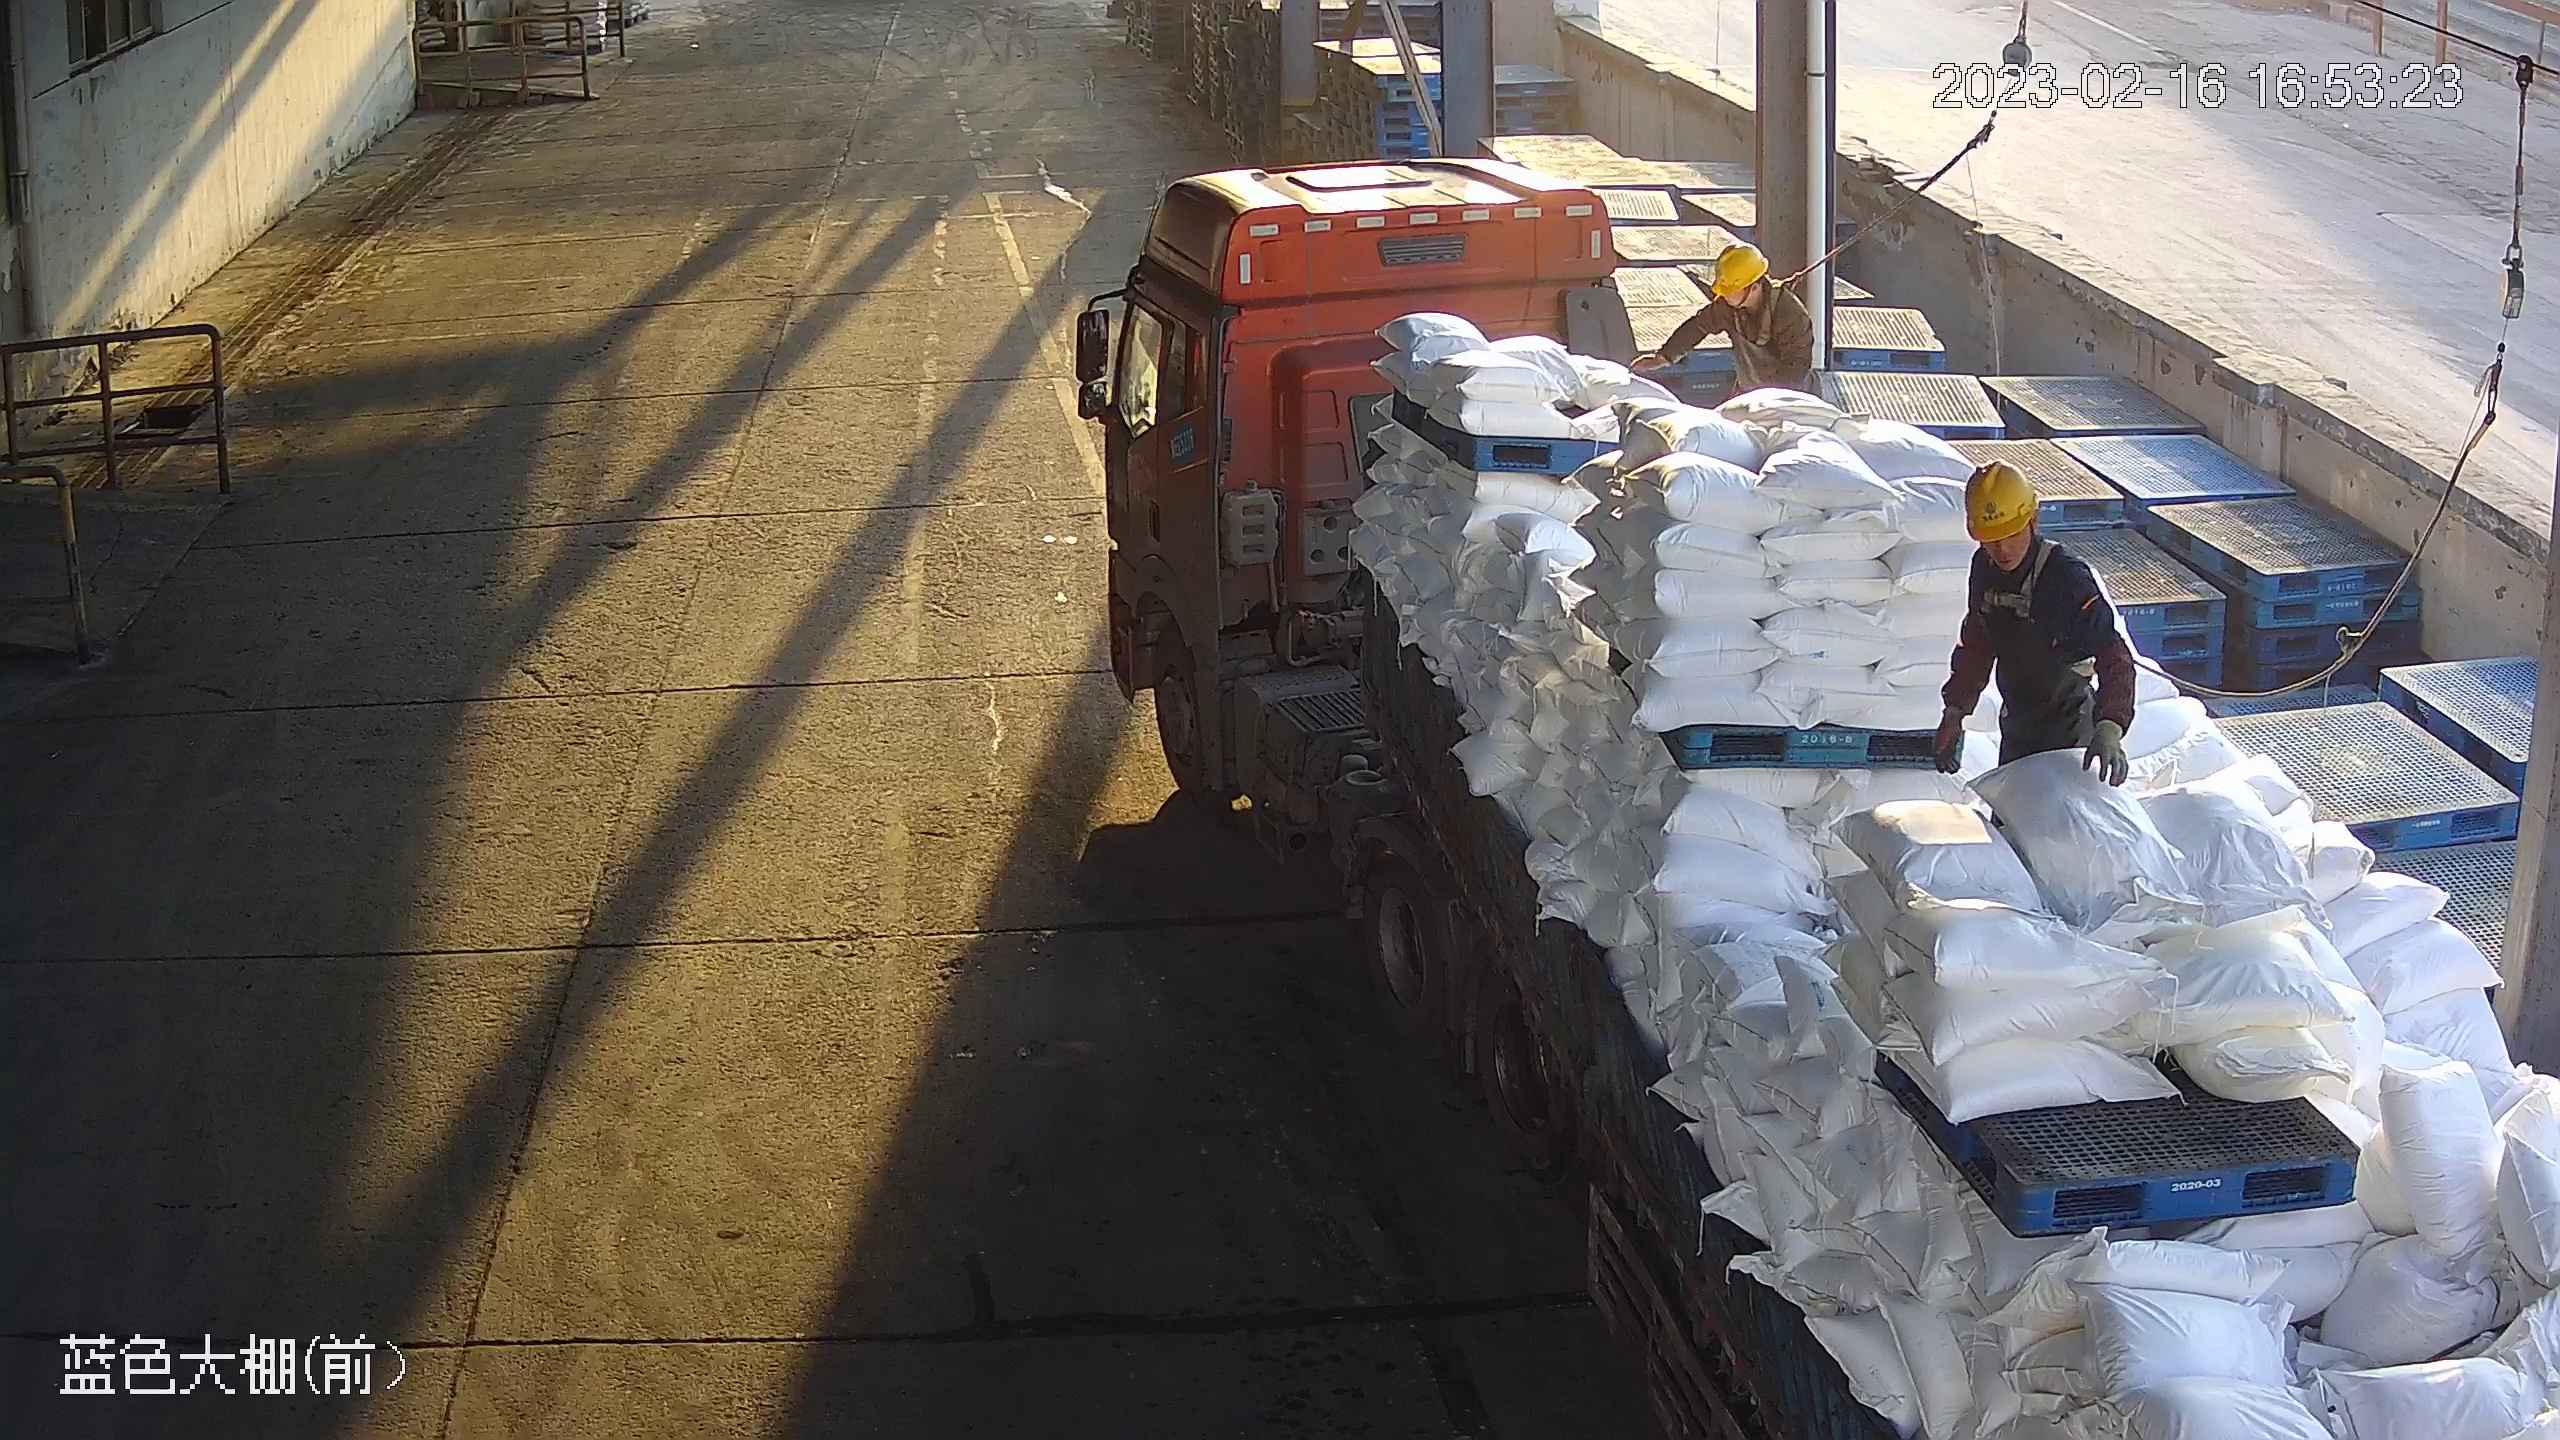belt: (1979, 536, 2067, 623), (1728, 291, 1788, 354)
head: (1676, 237, 1814, 358)
helmet: (1963, 460, 2035, 547), (1713, 242, 1770, 297)
people: (1932, 460, 2138, 836)
truck: (1069, 156, 2560, 1440)
